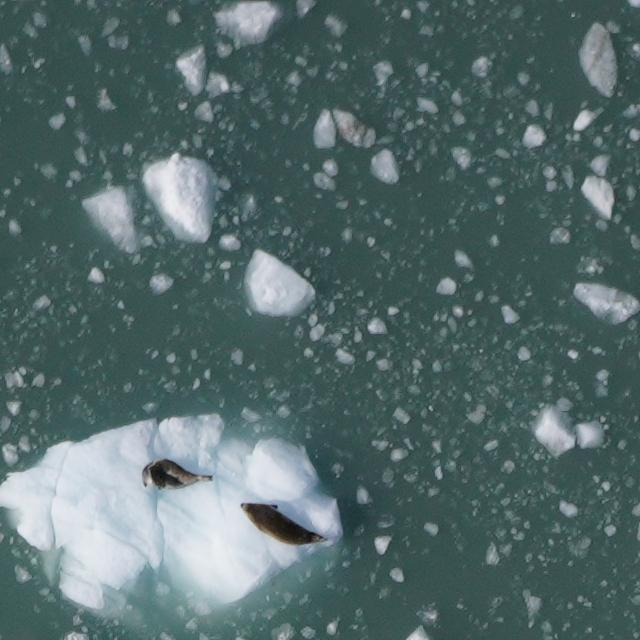seal: (235, 500, 334, 549), (137, 455, 218, 494)
